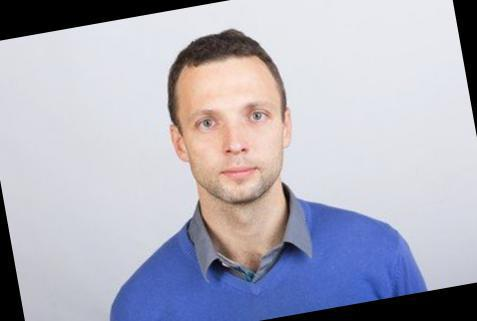Sober: (175, 64, 281, 198)
